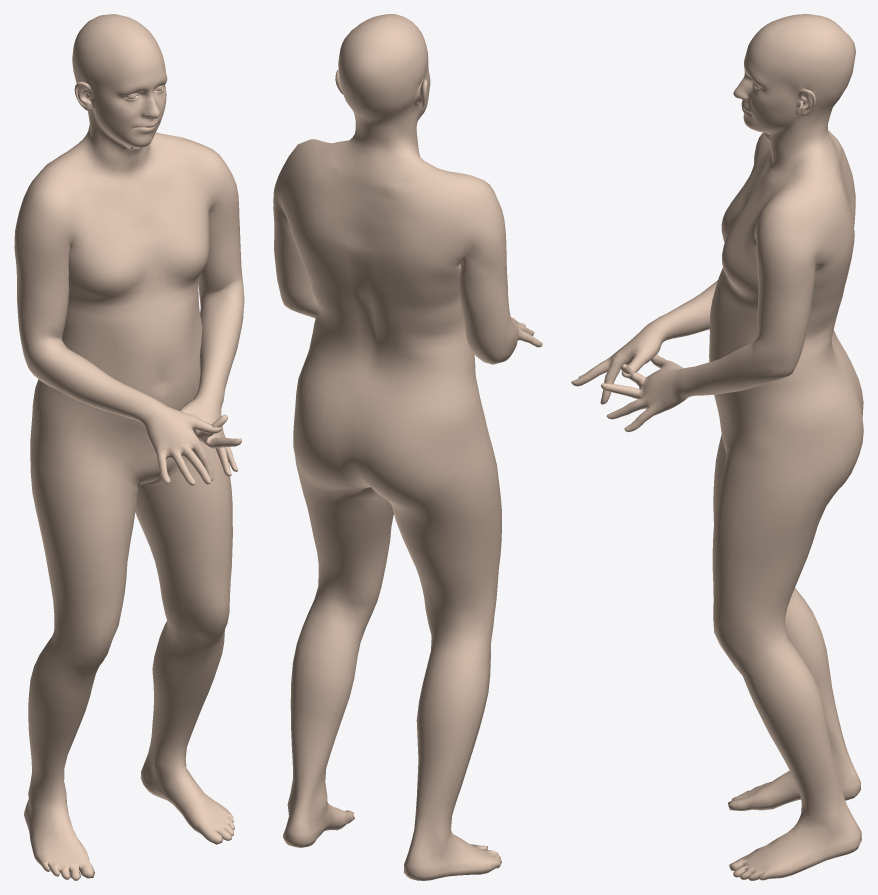
Rendered from WORD-00602.glb.
3 views of the same model, side by side, from view 1: azimuth 30°, elevation 25°; view 2: azimuth 150°, elevation 25°; view 3: azimuth 270°, elevation 25° (orthographic). The views are drawn at different scales.
Size of the model in its own units: 0.4821 by 1.72 by 0.5547.
